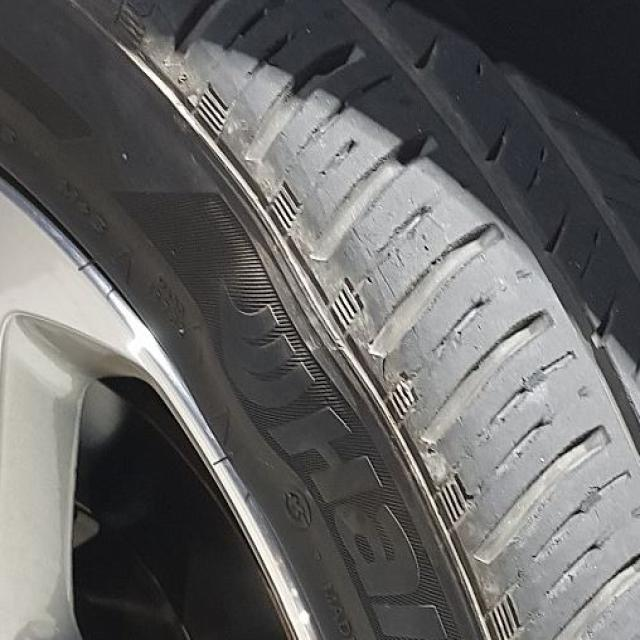Bulge: (187, 216, 382, 480)
